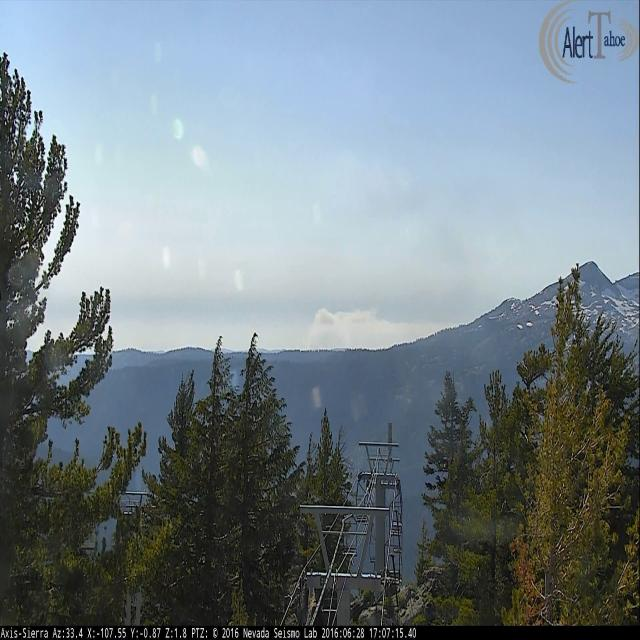smoke: (308, 305, 448, 350)
